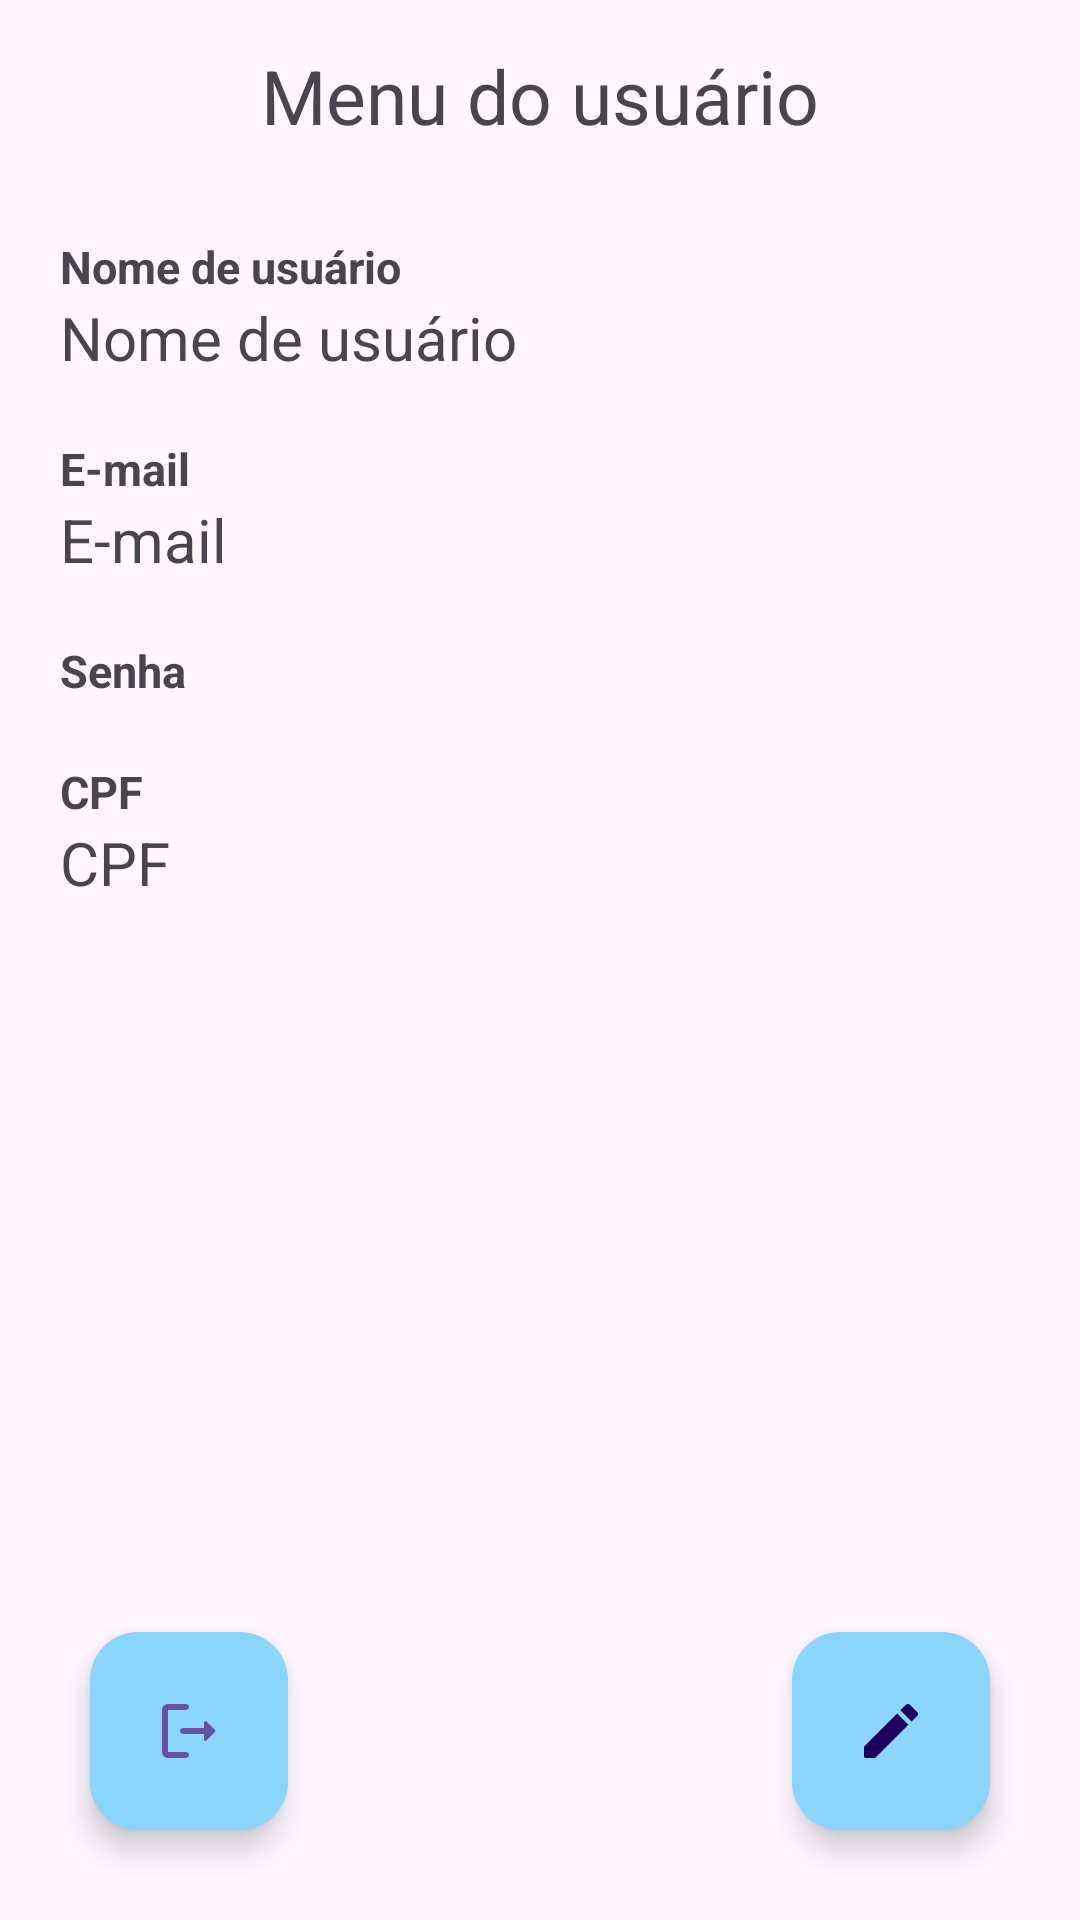

Point at icon controls on the screen. Image size 1080px×1920px, points as (x,y).
edit: (891,1731)
